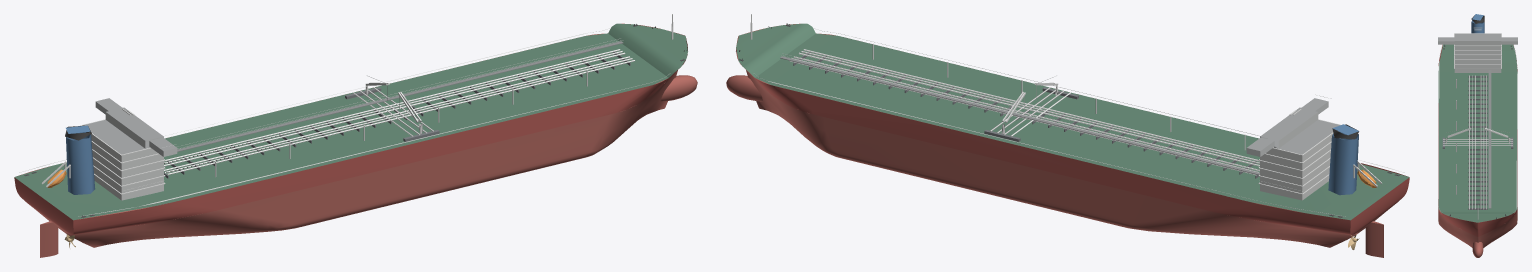
File: tanker.glb
3 renders of one model, left to right at view 1: azimuth 30°, elevation 25°; view 2: azimuth 150°, elevation 25°; view 3: azimuth 270°, elevation 25°, orthographic. The views are drawn at different scales.
Size of the model in its own units: 248 by 45.99 by 44.41.
